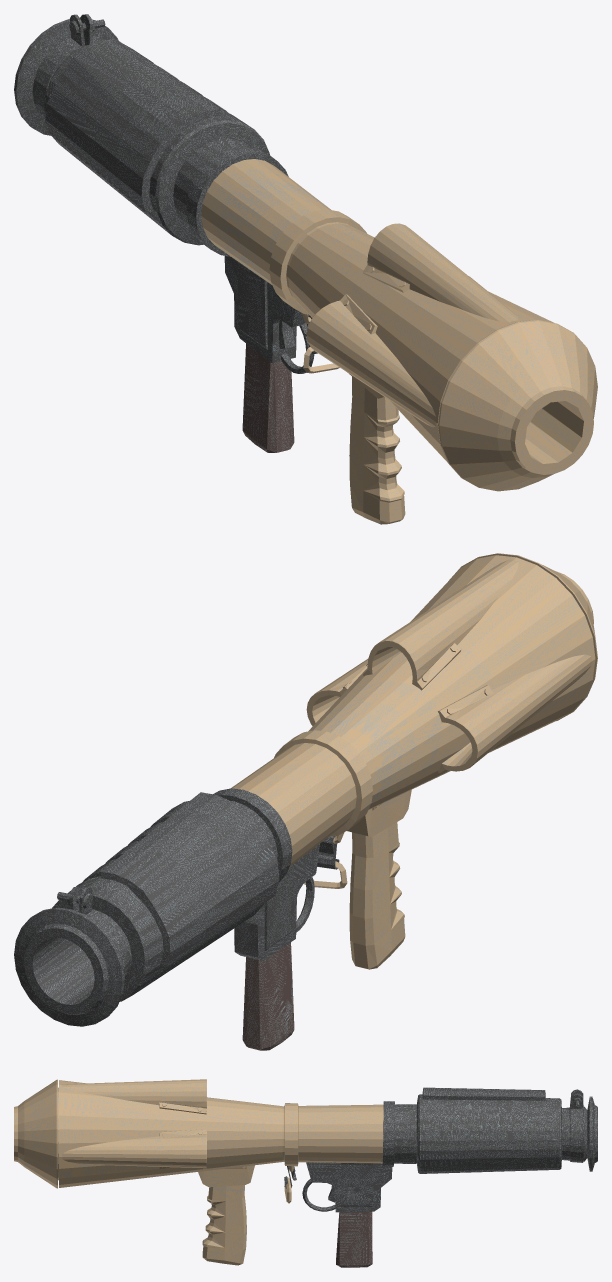
The picture shows the model from 3 angles, top to bottom: view 1: azimuth 30°, elevation 25°; view 2: azimuth 150°, elevation 25°; view 3: azimuth 270°, elevation 25°; orthographic projection. The views are drawn at different scales.
Visible parts, largest first — view 1: group_2 (×6), group_7 (×3), group_6, group_10 (×3), group_9, group_0; view 2: group_2 (×8), group_7 (×3), group_6, group_10 (×3), group_9, group_0; view 3: group_2 (×7), group_7 (×3), group_6, group_10 (×3), group_9.
Boxes of the visible parts, bbox=[...] form: group_2 (×6): bbox=[269, 209, 597, 524]; group_7 (×3): bbox=[14, 14, 288, 256]; group_6: bbox=[201, 159, 351, 303]; group_10 (×3): bbox=[224, 256, 572, 463]; group_9: bbox=[242, 343, 294, 452]; group_0: bbox=[530, 401, 583, 452]; group_2 (×8): bbox=[274, 553, 597, 969]; group_7 (×3): bbox=[14, 788, 292, 1026]; group_6: bbox=[231, 743, 356, 866]; group_10 (×3): bbox=[42, 844, 319, 1004]; group_9: bbox=[242, 942, 294, 1050]; group_0: bbox=[32, 937, 86, 988]; group_2 (×7): bbox=[14, 1079, 298, 1265]; group_7 (×3): bbox=[382, 1087, 597, 1173]; group_6: bbox=[282, 1104, 383, 1163]; group_10 (×3): bbox=[302, 1162, 392, 1212]; group_9: bbox=[336, 1212, 372, 1267].
Bounding box in the file's own units: 3.96 × 19.54 × 6.78.
